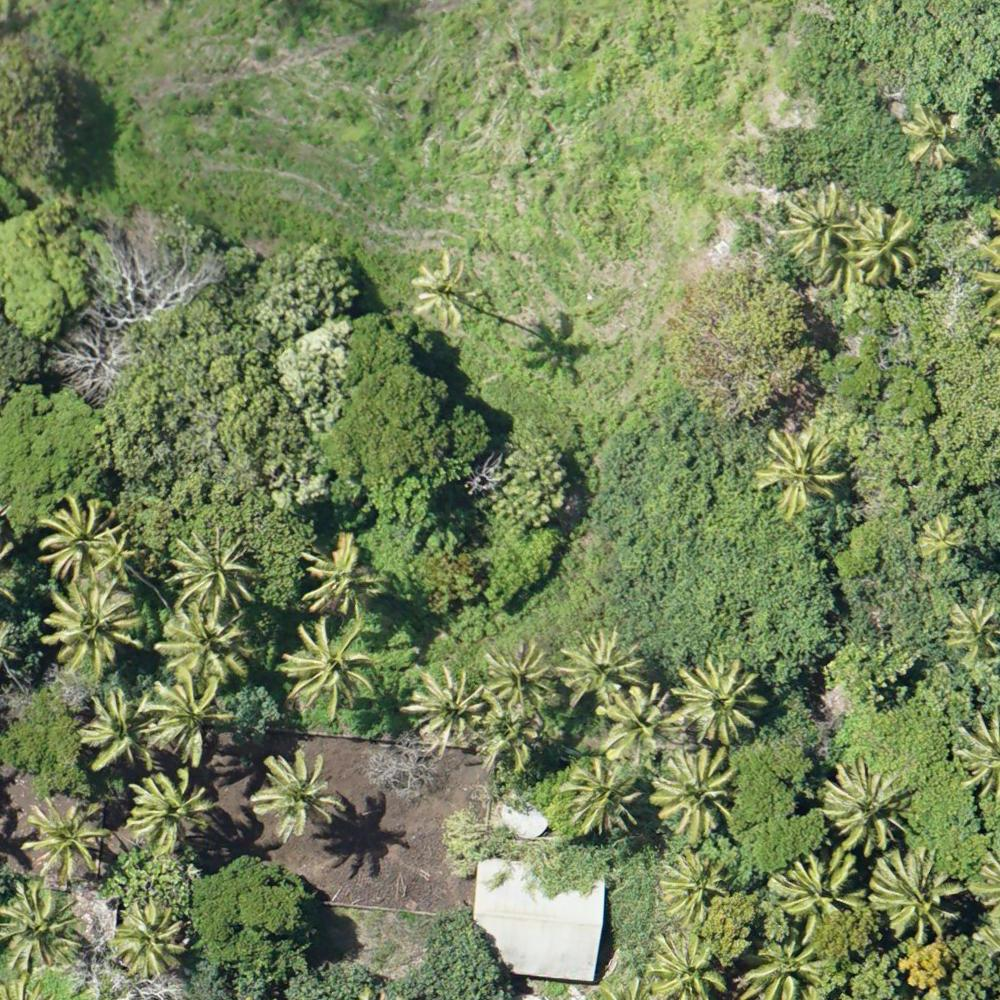Palm: (41, 584, 143, 676), (284, 617, 370, 721), (681, 652, 774, 745), (871, 844, 965, 936), (754, 426, 847, 515), (820, 754, 908, 848), (41, 493, 129, 585), (778, 846, 871, 933), (651, 747, 741, 835), (158, 605, 252, 689), (1, 881, 86, 969), (557, 630, 649, 709), (129, 774, 214, 857), (406, 665, 487, 751), (152, 673, 231, 761), (563, 756, 647, 838), (253, 755, 339, 835), (171, 530, 254, 610), (26, 797, 106, 880), (305, 534, 387, 614), (746, 933, 841, 998), (848, 200, 923, 281), (112, 902, 188, 980), (605, 686, 682, 762), (787, 183, 857, 266), (82, 691, 158, 765), (642, 932, 724, 1000), (659, 845, 733, 918), (411, 254, 480, 330), (481, 644, 553, 715), (901, 102, 970, 164), (941, 600, 1000, 664), (915, 513, 967, 566)
